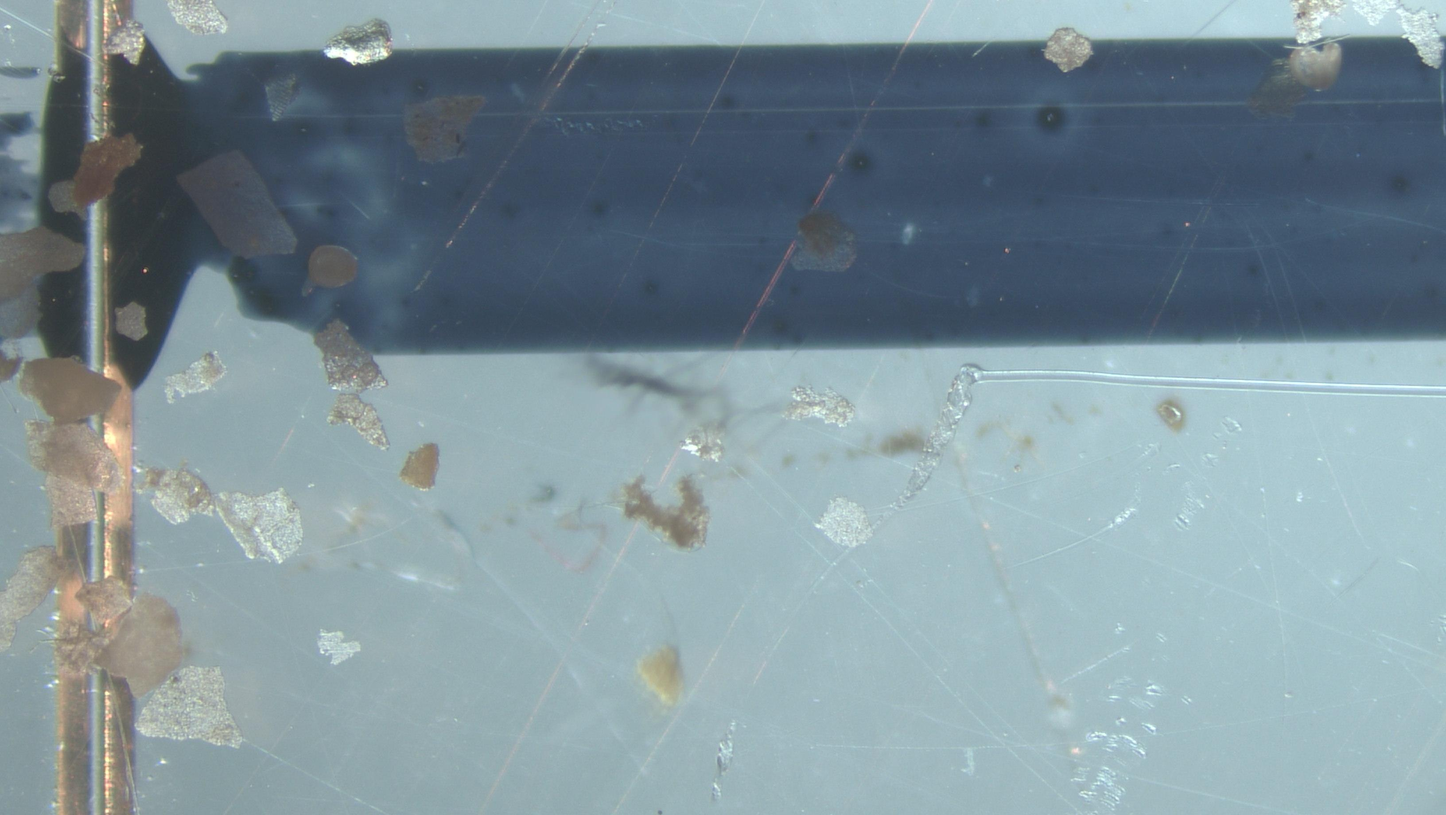live: (303, 245, 358, 296), (1289, 42, 1342, 90)
